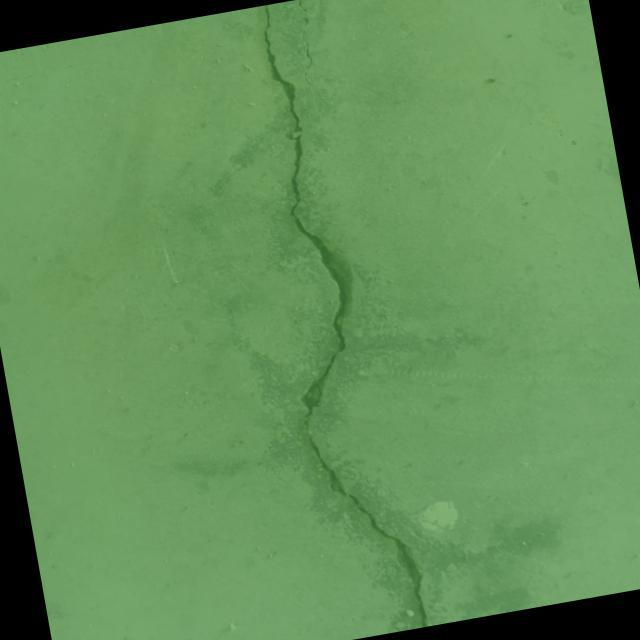crack: (230, 0, 431, 640), (294, 16, 320, 84), (296, 0, 307, 13)
